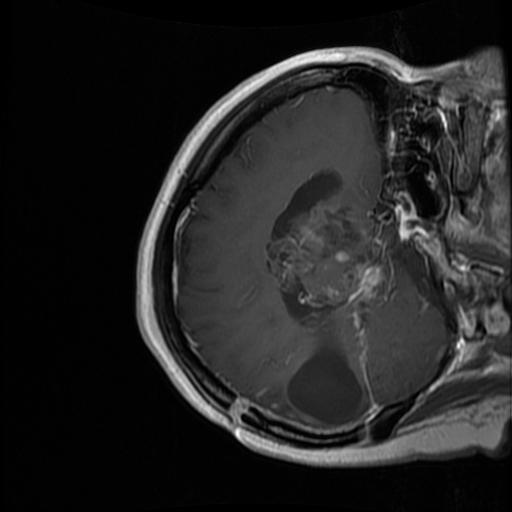glioma: (286, 353, 364, 426)
